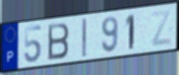1: (125, 14, 135, 51)
5: (23, 24, 42, 64)
9: (100, 16, 119, 54)
B: (47, 21, 71, 62)
I: (81, 18, 88, 59)
Z: (149, 8, 173, 49)
